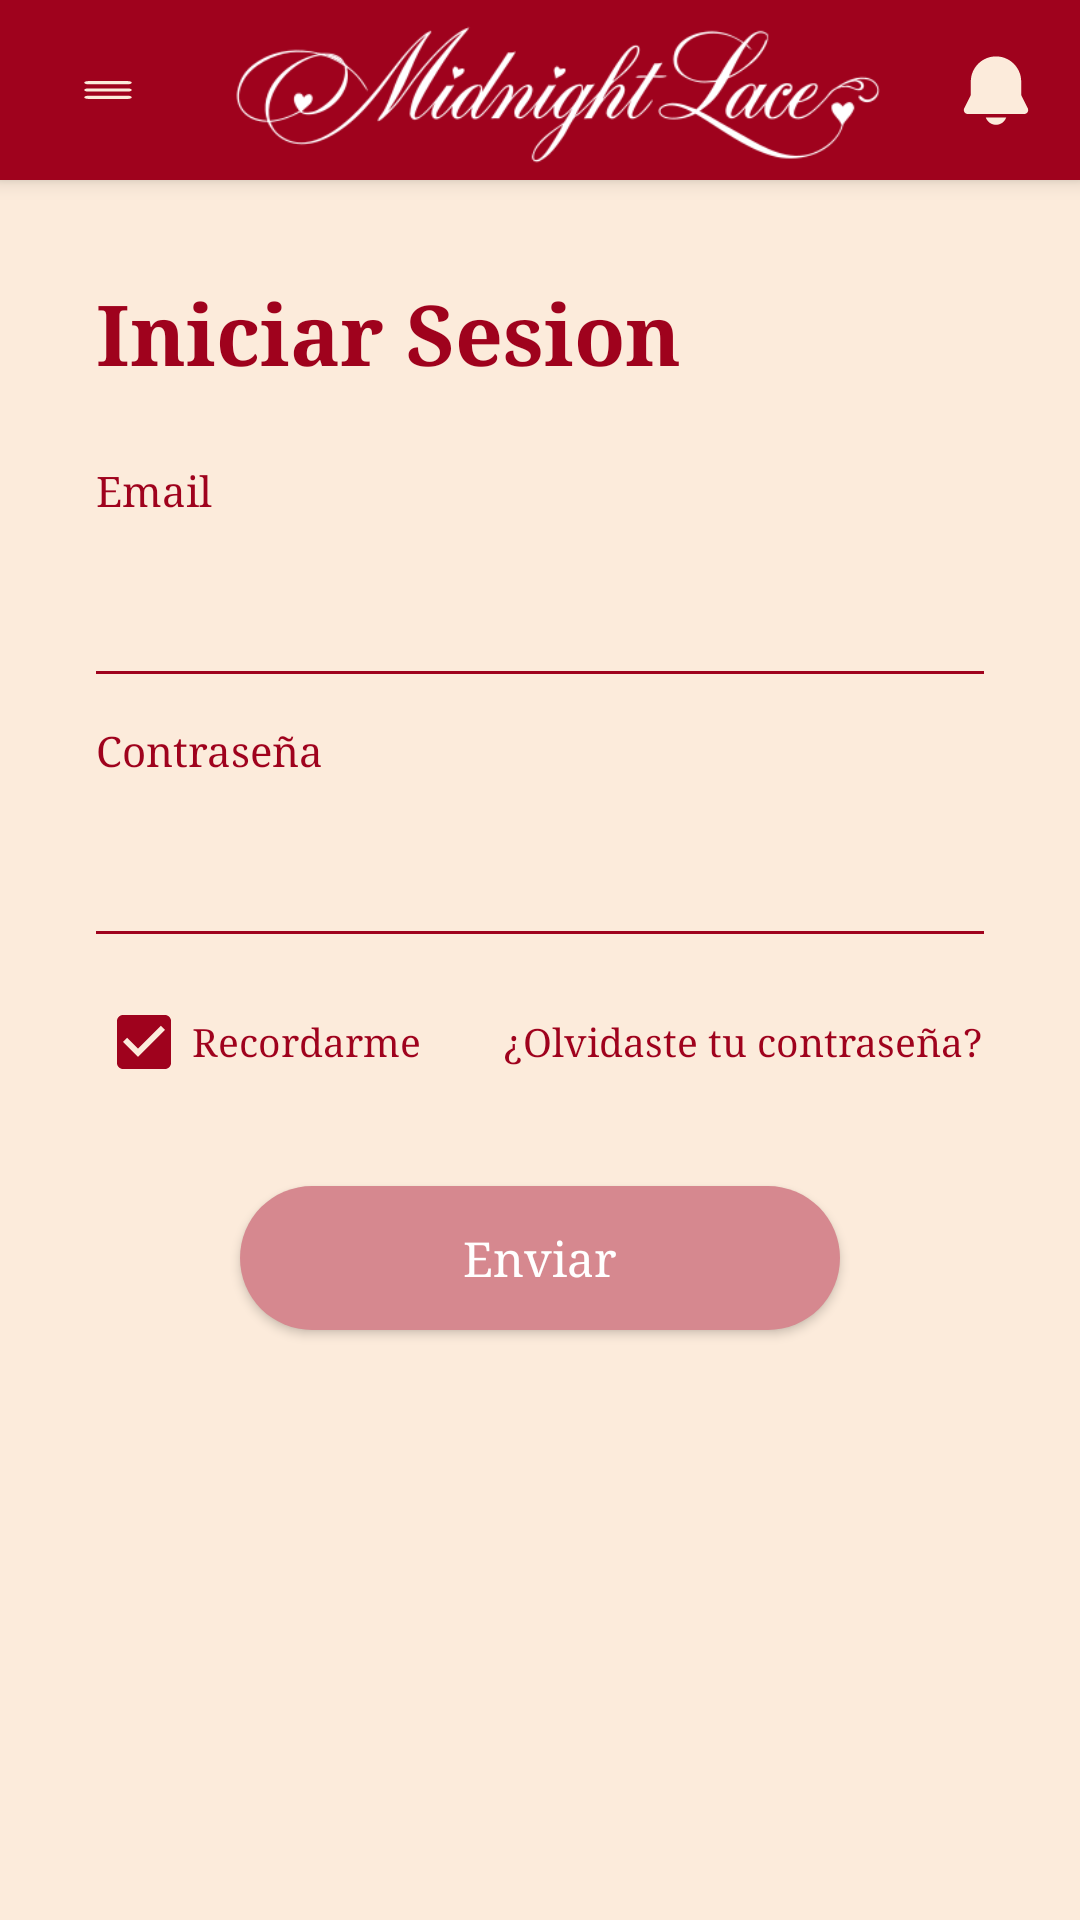

Point at icon controls on the screen. Image size 1080px×1920px, points as point (x, y).
bell: point (996, 90)
menu: point (108, 90)
